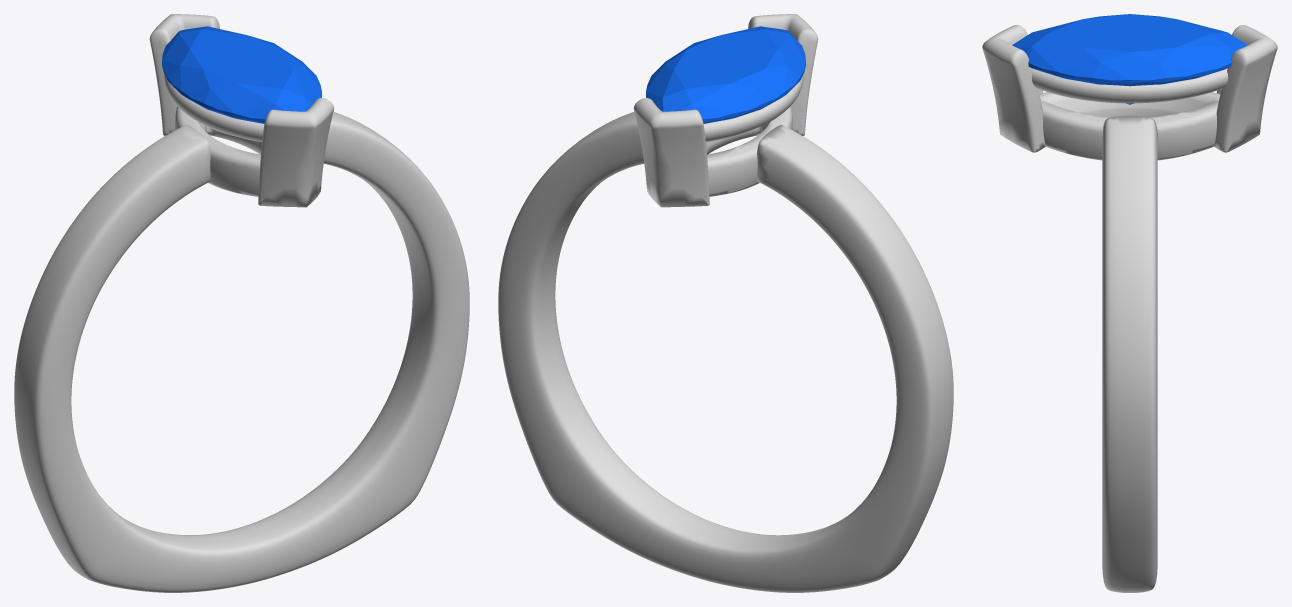
The model's file is bluesapphire-marquise-platinum-protectededges2prongs-europeanshank-nosidestones.glb.
3 renders of one model, left to right at view 1: azimuth 30°, elevation 25°; view 2: azimuth 150°, elevation 25°; view 3: azimuth 270°, elevation 25°, orthographic.
Visible parts, largest first — view 1: metal, stone; view 2: metal, stone; view 3: metal, stone.
Boxes of the visible parts, x1=… form: metal: x1=14, y1=14, x2=469, y2=592; stone: x1=162, y1=26, x2=321, y2=123; metal: x1=498, y1=14, x2=953, y2=592; stone: x1=646, y1=26, x2=805, y2=123; metal: x1=982, y1=25, x2=1277, y2=592; stone: x1=1012, y1=14, x2=1247, y2=104.
Size of the model in its own units: 20.11 by 22.73 by 11.69.
